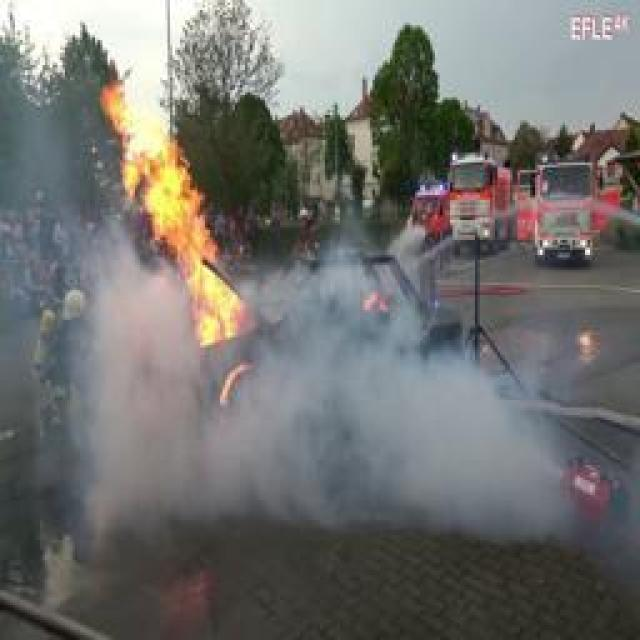Fire: (103, 71, 268, 411)
Smoke: (276, 287, 564, 547)
